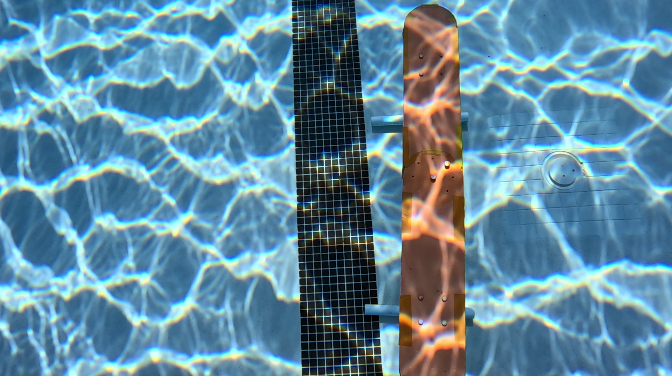pathmarker: (396, 2, 463, 374)
